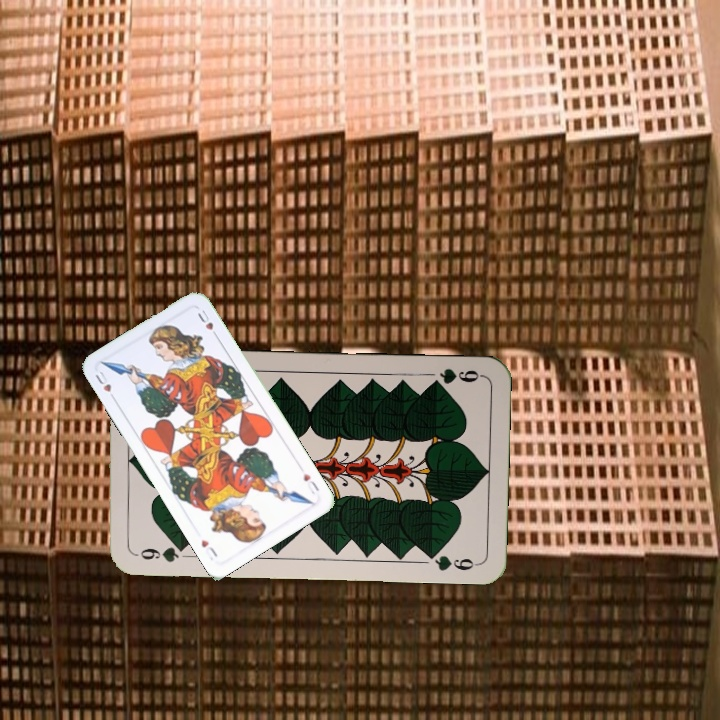G9: (426, 364, 485, 389), (131, 541, 190, 565)
HU: (91, 366, 119, 404), (299, 469, 322, 497)
